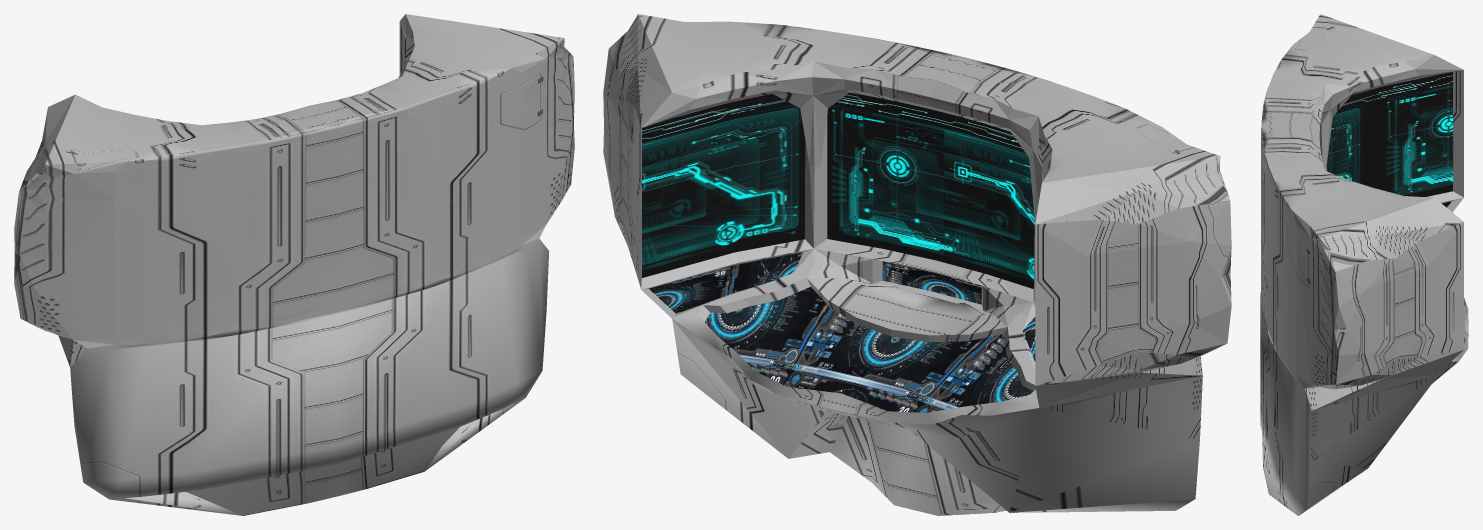
Rendered from konsol3.fbx.
The picture shows the model from 3 angles, left to right: view 1: azimuth 30°, elevation 25°; view 2: azimuth 150°, elevation 25°; view 3: azimuth 270°, elevation 25°; orthographic projection. The views are drawn at different scales.
Parts seen in each view (by area): view 1: MaterialFBXASC032FBXASC0352142150880; view 2: MaterialFBXASC032FBXASC0352142150880, MaterialFBXASC032FBXASC0352142148966, MaterialFBXASC032FBXASC0352142148017, MaterialFBXASC032FBXASC0352142148579; view 3: MaterialFBXASC032FBXASC0352142150880, MaterialFBXASC032FBXASC0352142148966.
Boxes of the visible parts, x1=… form: MaterialFBXASC032FBXASC0352142150880: x1=14, y1=14, x2=574, y2=515; MaterialFBXASC032FBXASC0352142150880: x1=603, y1=14, x2=1231, y2=515; MaterialFBXASC032FBXASC0352142148966: x1=642, y1=92, x2=1034, y2=288; MaterialFBXASC032FBXASC0352142148017: x1=705, y1=287, x2=1033, y2=412; MaterialFBXASC032FBXASC0352142148579: x1=649, y1=252, x2=1035, y2=361; MaterialFBXASC032FBXASC0352142150880: x1=1260, y1=14, x2=1468, y2=515; MaterialFBXASC032FBXASC0352142148966: x1=1326, y1=72, x2=1452, y2=196.
Bounding box in the file's own units: 2648 × 1676 × 961.
